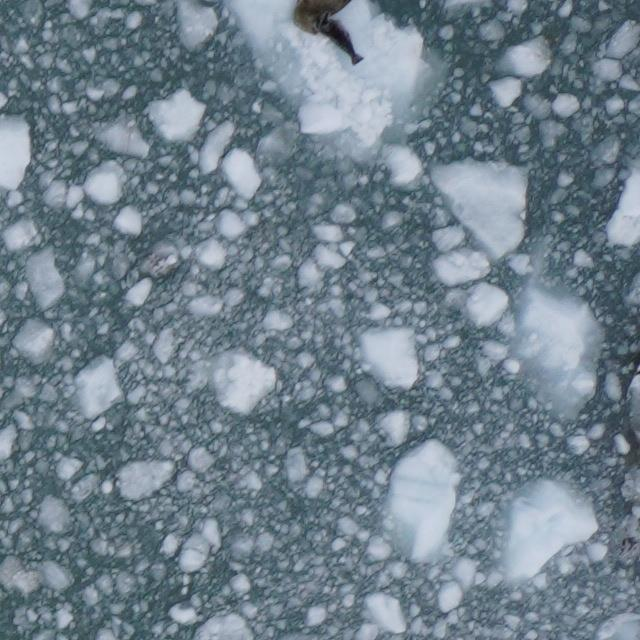seal: (310, 14, 368, 68), (286, 0, 351, 38)
